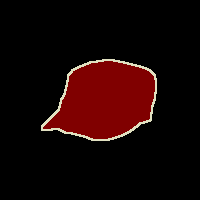hat: (42, 60, 156, 140)
